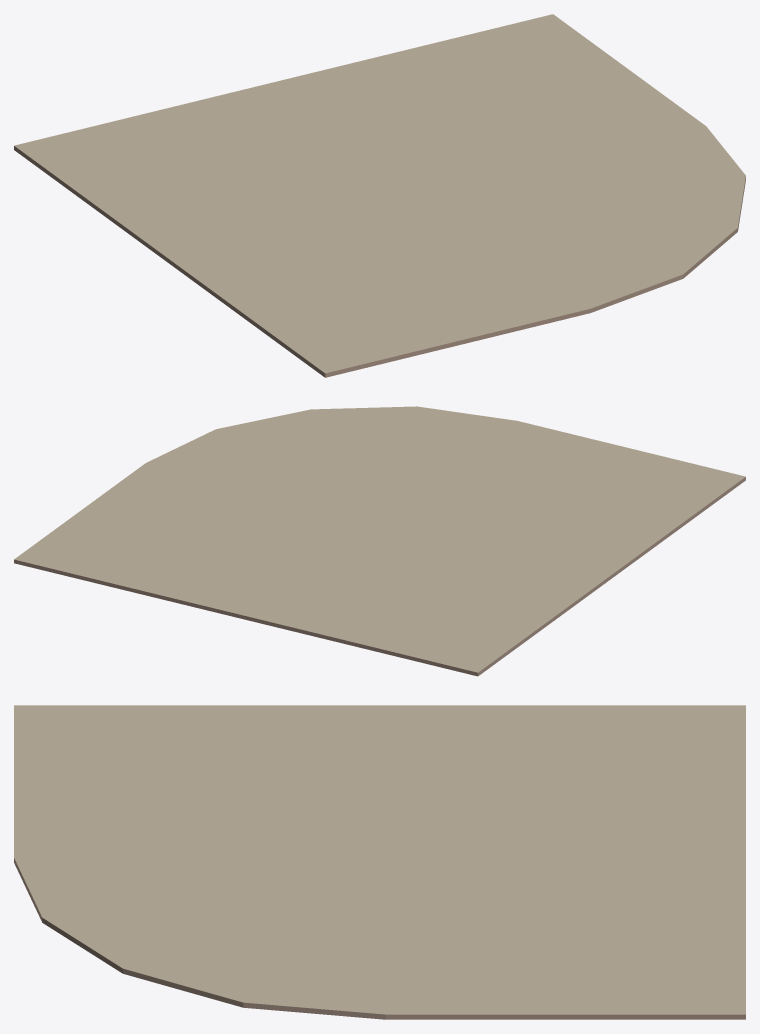
Rendered from Module_pier_corner_02.glb.
3 views of the same model, one above another, from view 1: azimuth 30°, elevation 25°; view 2: azimuth 150°, elevation 25°; view 3: azimuth 270°, elevation 25° (orthographic). The views are drawn at different scales.
Parts seen in each view (by area): view 1: Module_pier_corner_02; view 2: Module_pier_corner_02; view 3: Module_pier_corner_02.
Boxes of the visible parts, x1=… form: Module_pier_corner_02: x1=14, y1=14, x2=745, y2=377; Module_pier_corner_02: x1=14, y1=406, x2=745, y2=676; Module_pier_corner_02: x1=14, y1=705, x2=745, y2=1019.
Size of the model in its own units: 2 by 0.0156 by 2.
